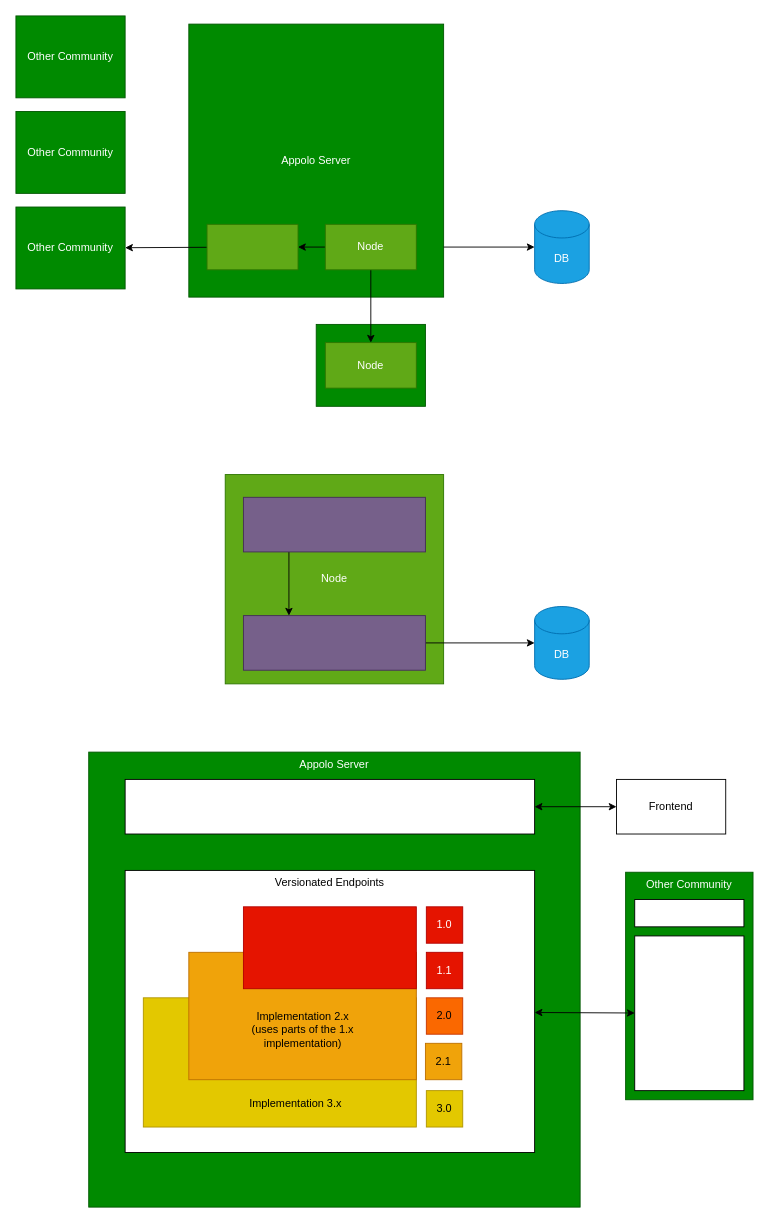
The diagram is 769 pixels wide and 1223 high, and some of its shapes have lost their labels. The shapes that lost their labels are listed below. From the top down, each one's centre as x and y in pixels, then its label:
At (x=252, y=246): "Verify via GraphQL".
At (x=334, y=524): "DHT (lookup/annoucne)".
At (x=334, y=642): "Direct Connection (exchange endpoints)".
At (x=329, y=806): "Frontend GraphQL Endpoint (unversionated)".
At (x=329, y=947): "Implementation 1.x".
